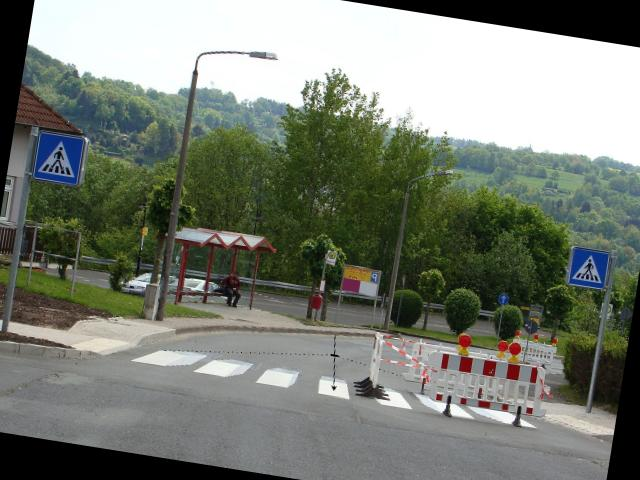crosswalk-sign: (32, 130, 91, 189), (566, 246, 612, 293)
